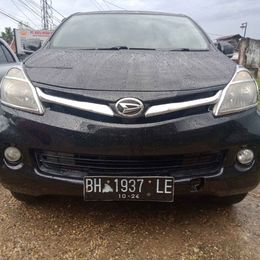plate: (83, 174, 175, 203)
